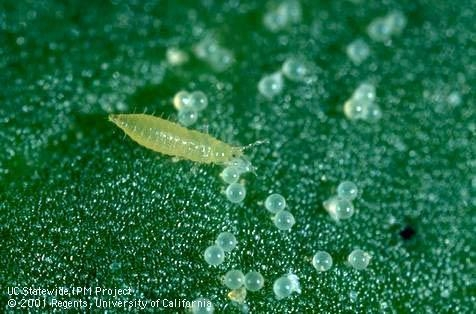Thrips: (108, 99, 269, 184)
